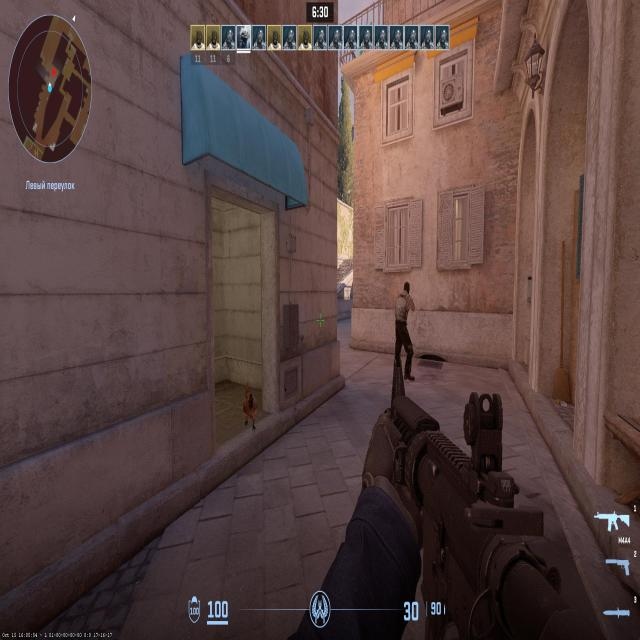T: (399, 280, 414, 374)
T_heat: (405, 287, 410, 299)
